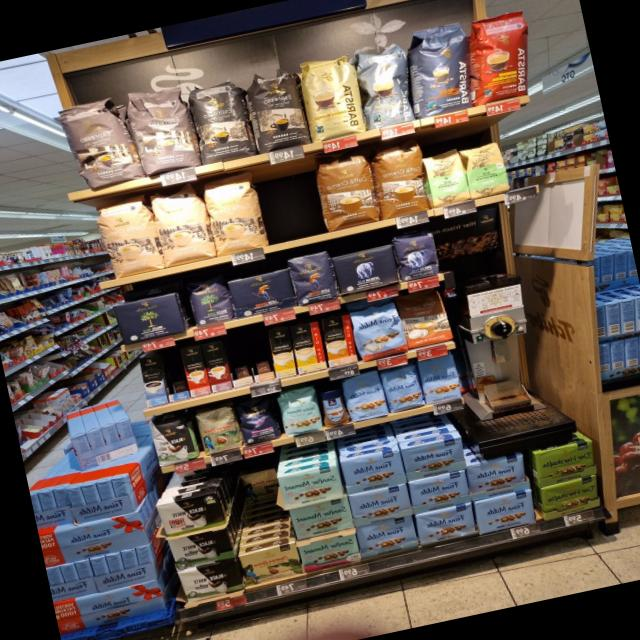AB Bohne: (391, 228, 444, 283)
AB Gemahlen: (332, 243, 401, 296)
Athiopien Gemahlen: (459, 138, 512, 199), (420, 148, 470, 208)
BM Bohne: (185, 276, 232, 328)
BM Gemahlen: (110, 290, 186, 346)
BW Bohne: (147, 412, 199, 468)
BW Gemahlen: (154, 488, 227, 538), (166, 524, 236, 571), (176, 556, 243, 604)
Barista CB: (294, 50, 368, 143)
Barista CC: (351, 37, 422, 131)
Barista Espresso: (399, 20, 482, 120)
Barista Kolumbien: (459, 6, 542, 106)
C Fino Bohne: (233, 394, 281, 447)
CC Mild: (92, 190, 162, 280), (200, 169, 270, 257), (148, 181, 215, 268)
CC Vollmundig: (397, 286, 453, 349)
CC Vollmundig 36 Pads: (310, 148, 381, 232), (367, 136, 434, 220)
Colombia BB Bohne: (193, 402, 243, 456)
Colombia BB Gemahlen: (237, 542, 301, 588)
Empty Shelf: (253, 157, 325, 245), (244, 330, 274, 376), (160, 348, 188, 394), (224, 335, 252, 380)
Espresso M Art: (54, 92, 138, 194), (122, 81, 199, 177)
Espresso S Art: (240, 64, 310, 154), (184, 76, 254, 164)
FM 36 Pads: (348, 300, 407, 363)
FM Bohne: (416, 352, 464, 406), (340, 369, 388, 423), (379, 362, 425, 414)
FM Gemahlen: (400, 434, 468, 480), (338, 448, 406, 494), (472, 488, 538, 535), (406, 468, 473, 514), (464, 454, 529, 501), (414, 502, 478, 549), (348, 482, 413, 528), (355, 516, 418, 558)
FM Instant: (316, 387, 350, 428)
Herzhatfe Mundig: (531, 436, 600, 486), (536, 473, 604, 520)
LG Bohne: (286, 248, 338, 306)
LG Gemahlen: (226, 268, 296, 320)
SM Bohne: (274, 384, 324, 438)
SM Gemahlen: (277, 463, 344, 509), (288, 496, 354, 540), (297, 531, 361, 573)
Simo CCMild: (289, 320, 327, 373)
Simo CCMild bigpack: (266, 326, 298, 378)
Simo CCVollmundig: (320, 313, 358, 367)
Simo Es Brazil: (181, 344, 211, 396)
Simo Es Caramel: (202, 340, 232, 392)
Simo Es Vanilla: (138, 354, 169, 407)
